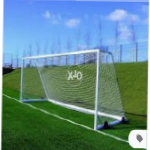goals: (19, 48, 128, 131)
